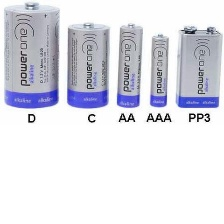battery: (1, 1, 60, 111), (62, 19, 112, 109), (175, 21, 223, 109), (114, 21, 144, 108), (147, 31, 170, 110)
